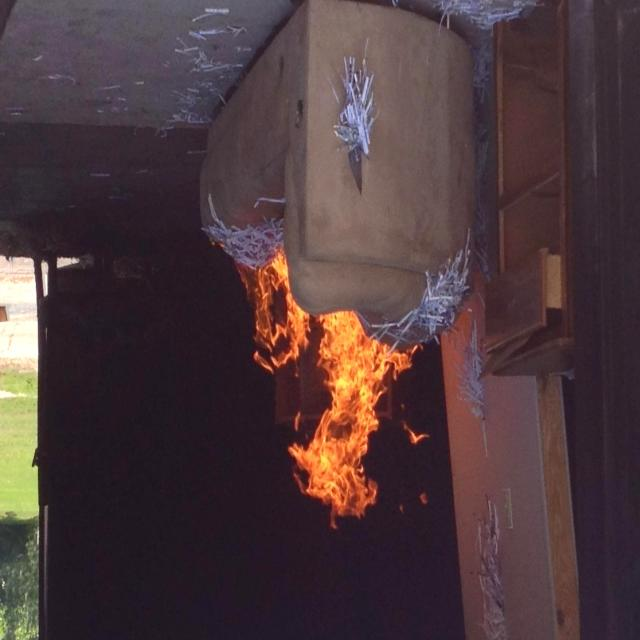fire: (255, 300, 412, 531)
